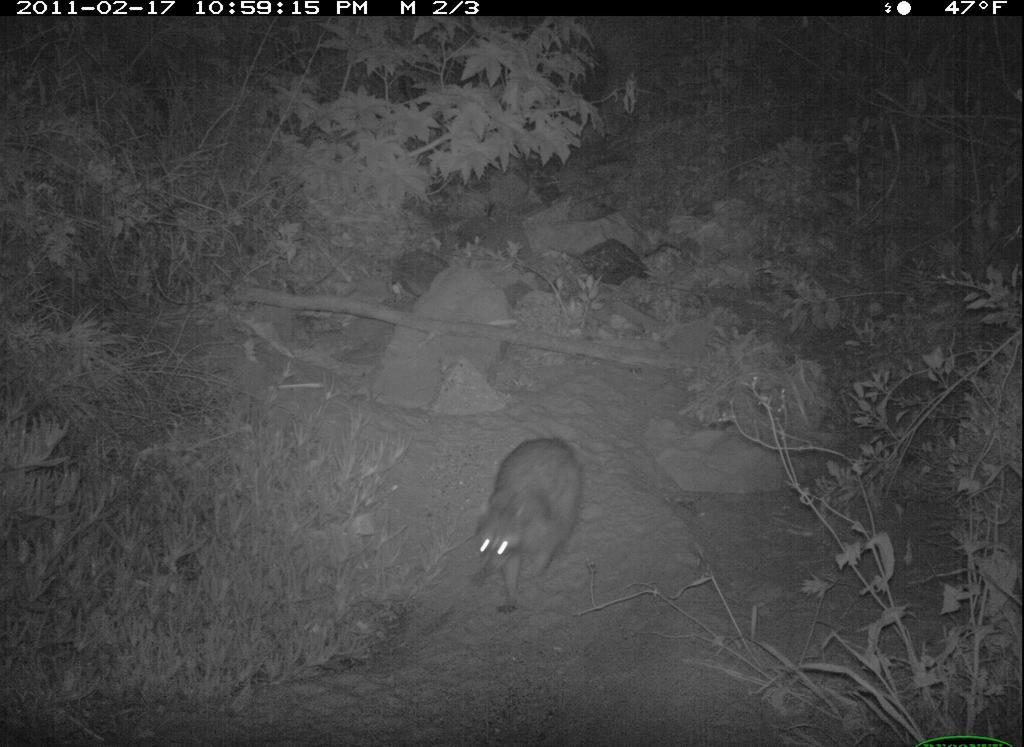raccoon: (466, 427, 592, 636)
